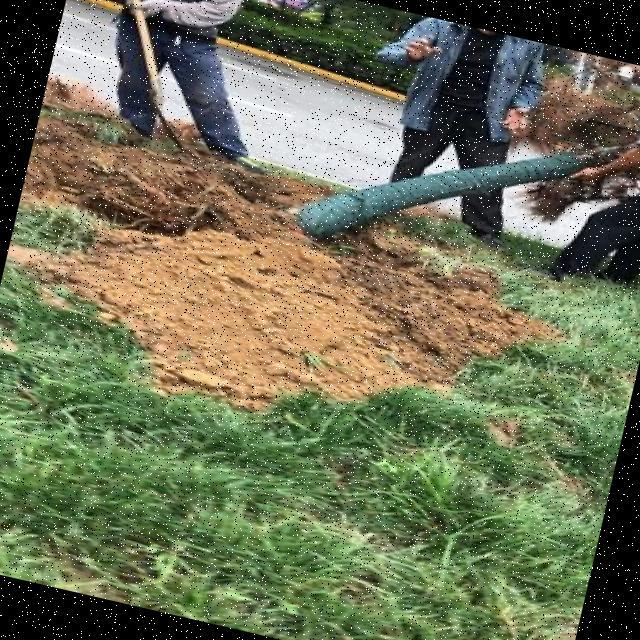fallen_object: (92, 23, 640, 342)
